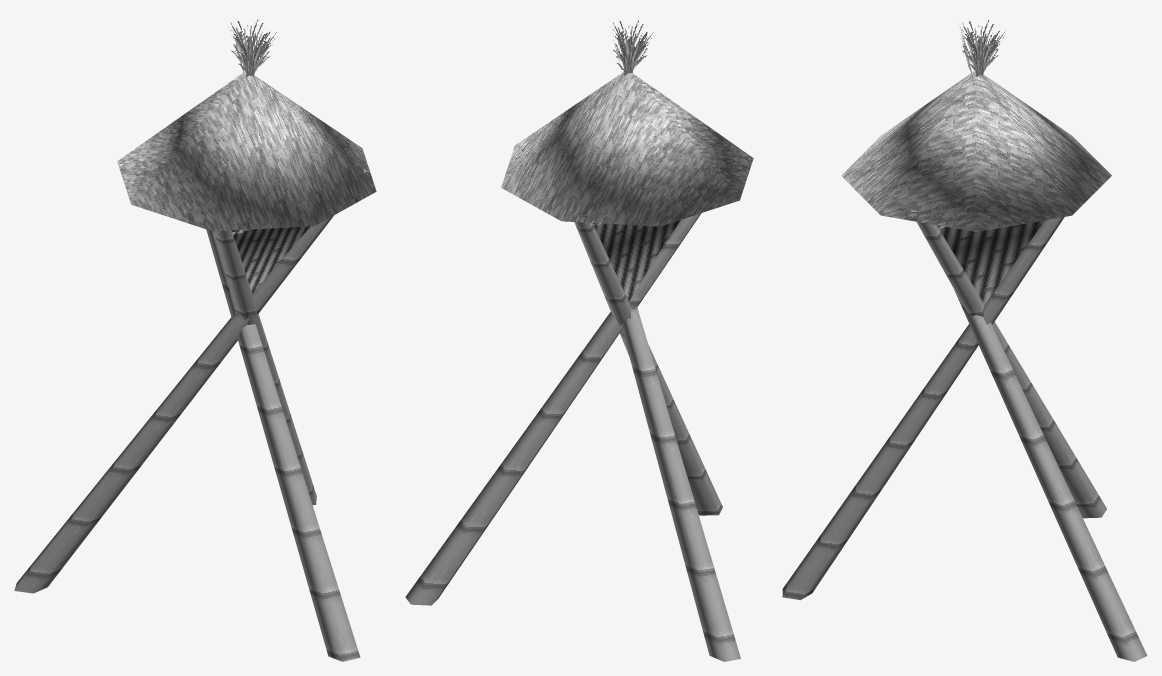
Rendered from bambootower.obj.
3 renders of one model, left to right at view 1: azimuth 30°, elevation 25°; view 2: azimuth 150°, elevation 25°; view 3: azimuth 270°, elevation 25°, orthographic. The views are drawn at different scales.
Visible parts, largest first — view 1: Cylinder05, Duplicate02, Duplicate01, Box01, Duplicate05; view 2: Cylinder05, Duplicate02, Duplicate01, Duplicate04, Box01; view 3: Cylinder05, Duplicate02, Duplicate01, Duplicate05, Duplicate04.
Boxes of the visible parts, x1,y1,x2,y2 form: Cylinder05: [117, 71, 376, 231]; Duplicate02: [14, 168, 367, 593]; Duplicate01: [206, 229, 360, 661]; Box01: [232, 31, 310, 293]; Duplicate05: [228, 19, 268, 231]; Cylinder05: [501, 72, 753, 226]; Duplicate02: [405, 213, 740, 661]; Duplicate01: [574, 222, 722, 515]; Duplicate04: [593, 32, 680, 301]; Box01: [610, 20, 648, 72]; Cylinder05: [841, 70, 1111, 231]; Duplicate02: [910, 210, 1147, 661]; Duplicate01: [782, 217, 1064, 600]; Duplicate05: [938, 30, 1044, 304]; Duplicate04: [962, 20, 998, 68].
Bounding box in the file's own units: 88.37 × 147 × 86.41.
